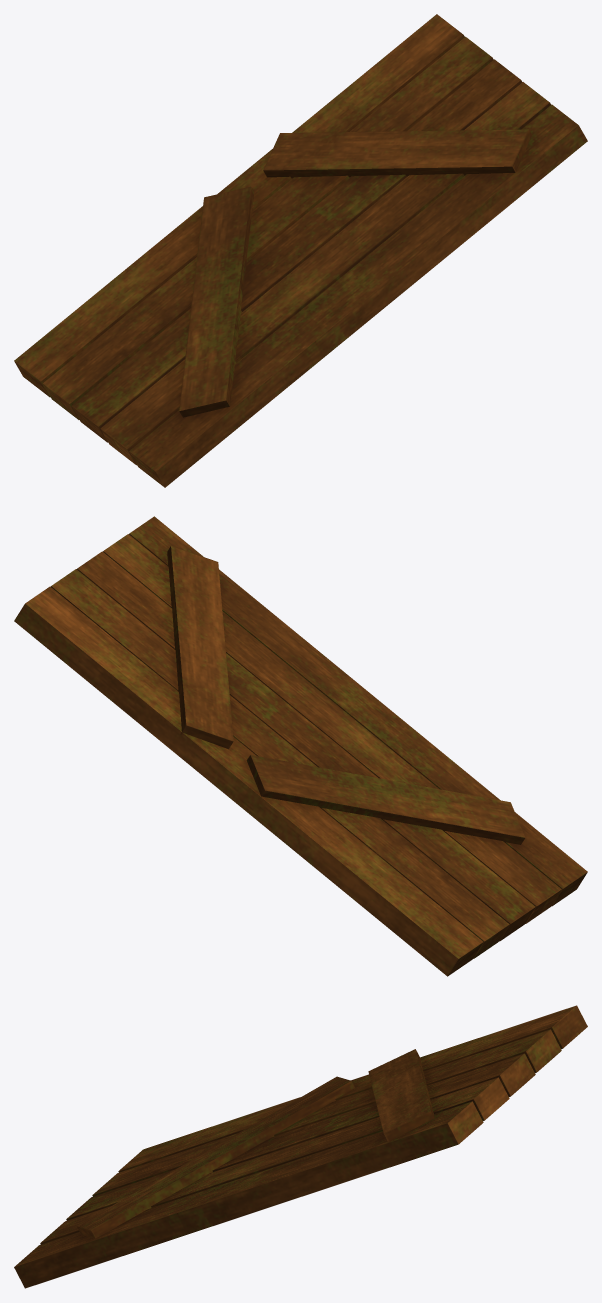
Rendered from wooden_board.fbx.
The picture shows the model from 3 angles, top to bottom: view 1: azimuth 30°, elevation 25°; view 2: azimuth 150°, elevation 25°; view 3: azimuth 330°, elevation 25°; orthographic projection. The views are drawn at different scales.
Visible parts, largest first — view 1: Cube.013, Cube.043, Cube.042; view 2: Cube.013, Cube.042, Cube.043; view 3: Cube.013, Cube.042, Cube.043.
Part boxes in pixels (x1,y1,x2,y2): Cube.013: (14,14,587,487); Cube.043: (263,129,531,178); Cube.042: (179,186,254,417); Cube.013: (14,516,587,976); Cube.042: (246,755,525,844); Cube.043: (167,546,233,749); Cube.013: (14,1005,587,1288); Cube.042: (76,1076,354,1238); Cube.043: (368,1049,434,1141).
Bounding box in the file's own units: 1737 × 1045 × 920.
Materials: 1 (1 with a texture image).
